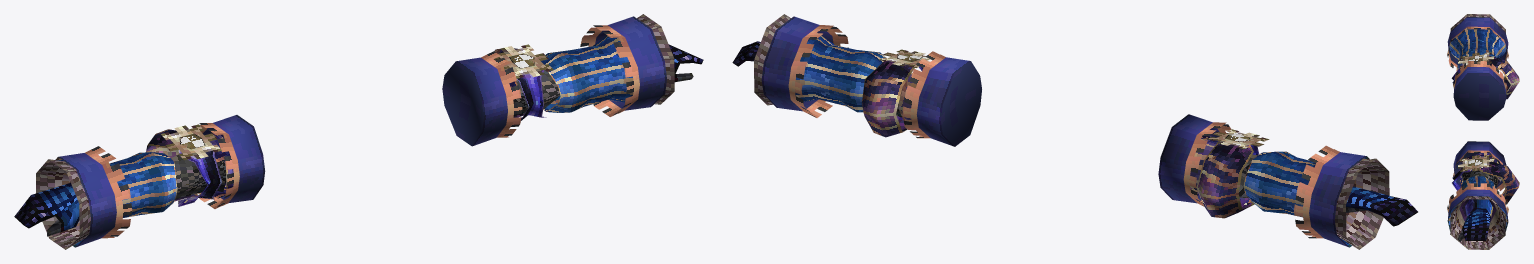
File: m_gauntlet327.obj
The picture shows the model from 3 angles, left to right: view 1: azimuth 30°, elevation 25°; view 2: azimuth 150°, elevation 25°; view 3: azimuth 270°, elevation 25°; orthographic projection. The views are drawn at different scales.
Parts seen in each view (by area): view 1: mesh00, mesh01; view 2: mesh00, mesh01; view 3: mesh00, mesh01.
Part boxes in pixels (box(x1,y1,x2,y2)): mesh00: box(14, 16, 703, 247); mesh01: box(36, 14, 674, 249); mesh00: box(732, 16, 1417, 247); mesh01: box(754, 14, 1389, 249); mesh00: box(1447, 17, 1519, 241); mesh01: box(1450, 14, 1505, 249).
Bounding box in the file's own units: 176 × 20 × 25.55.
2 materials, 2 textured.
